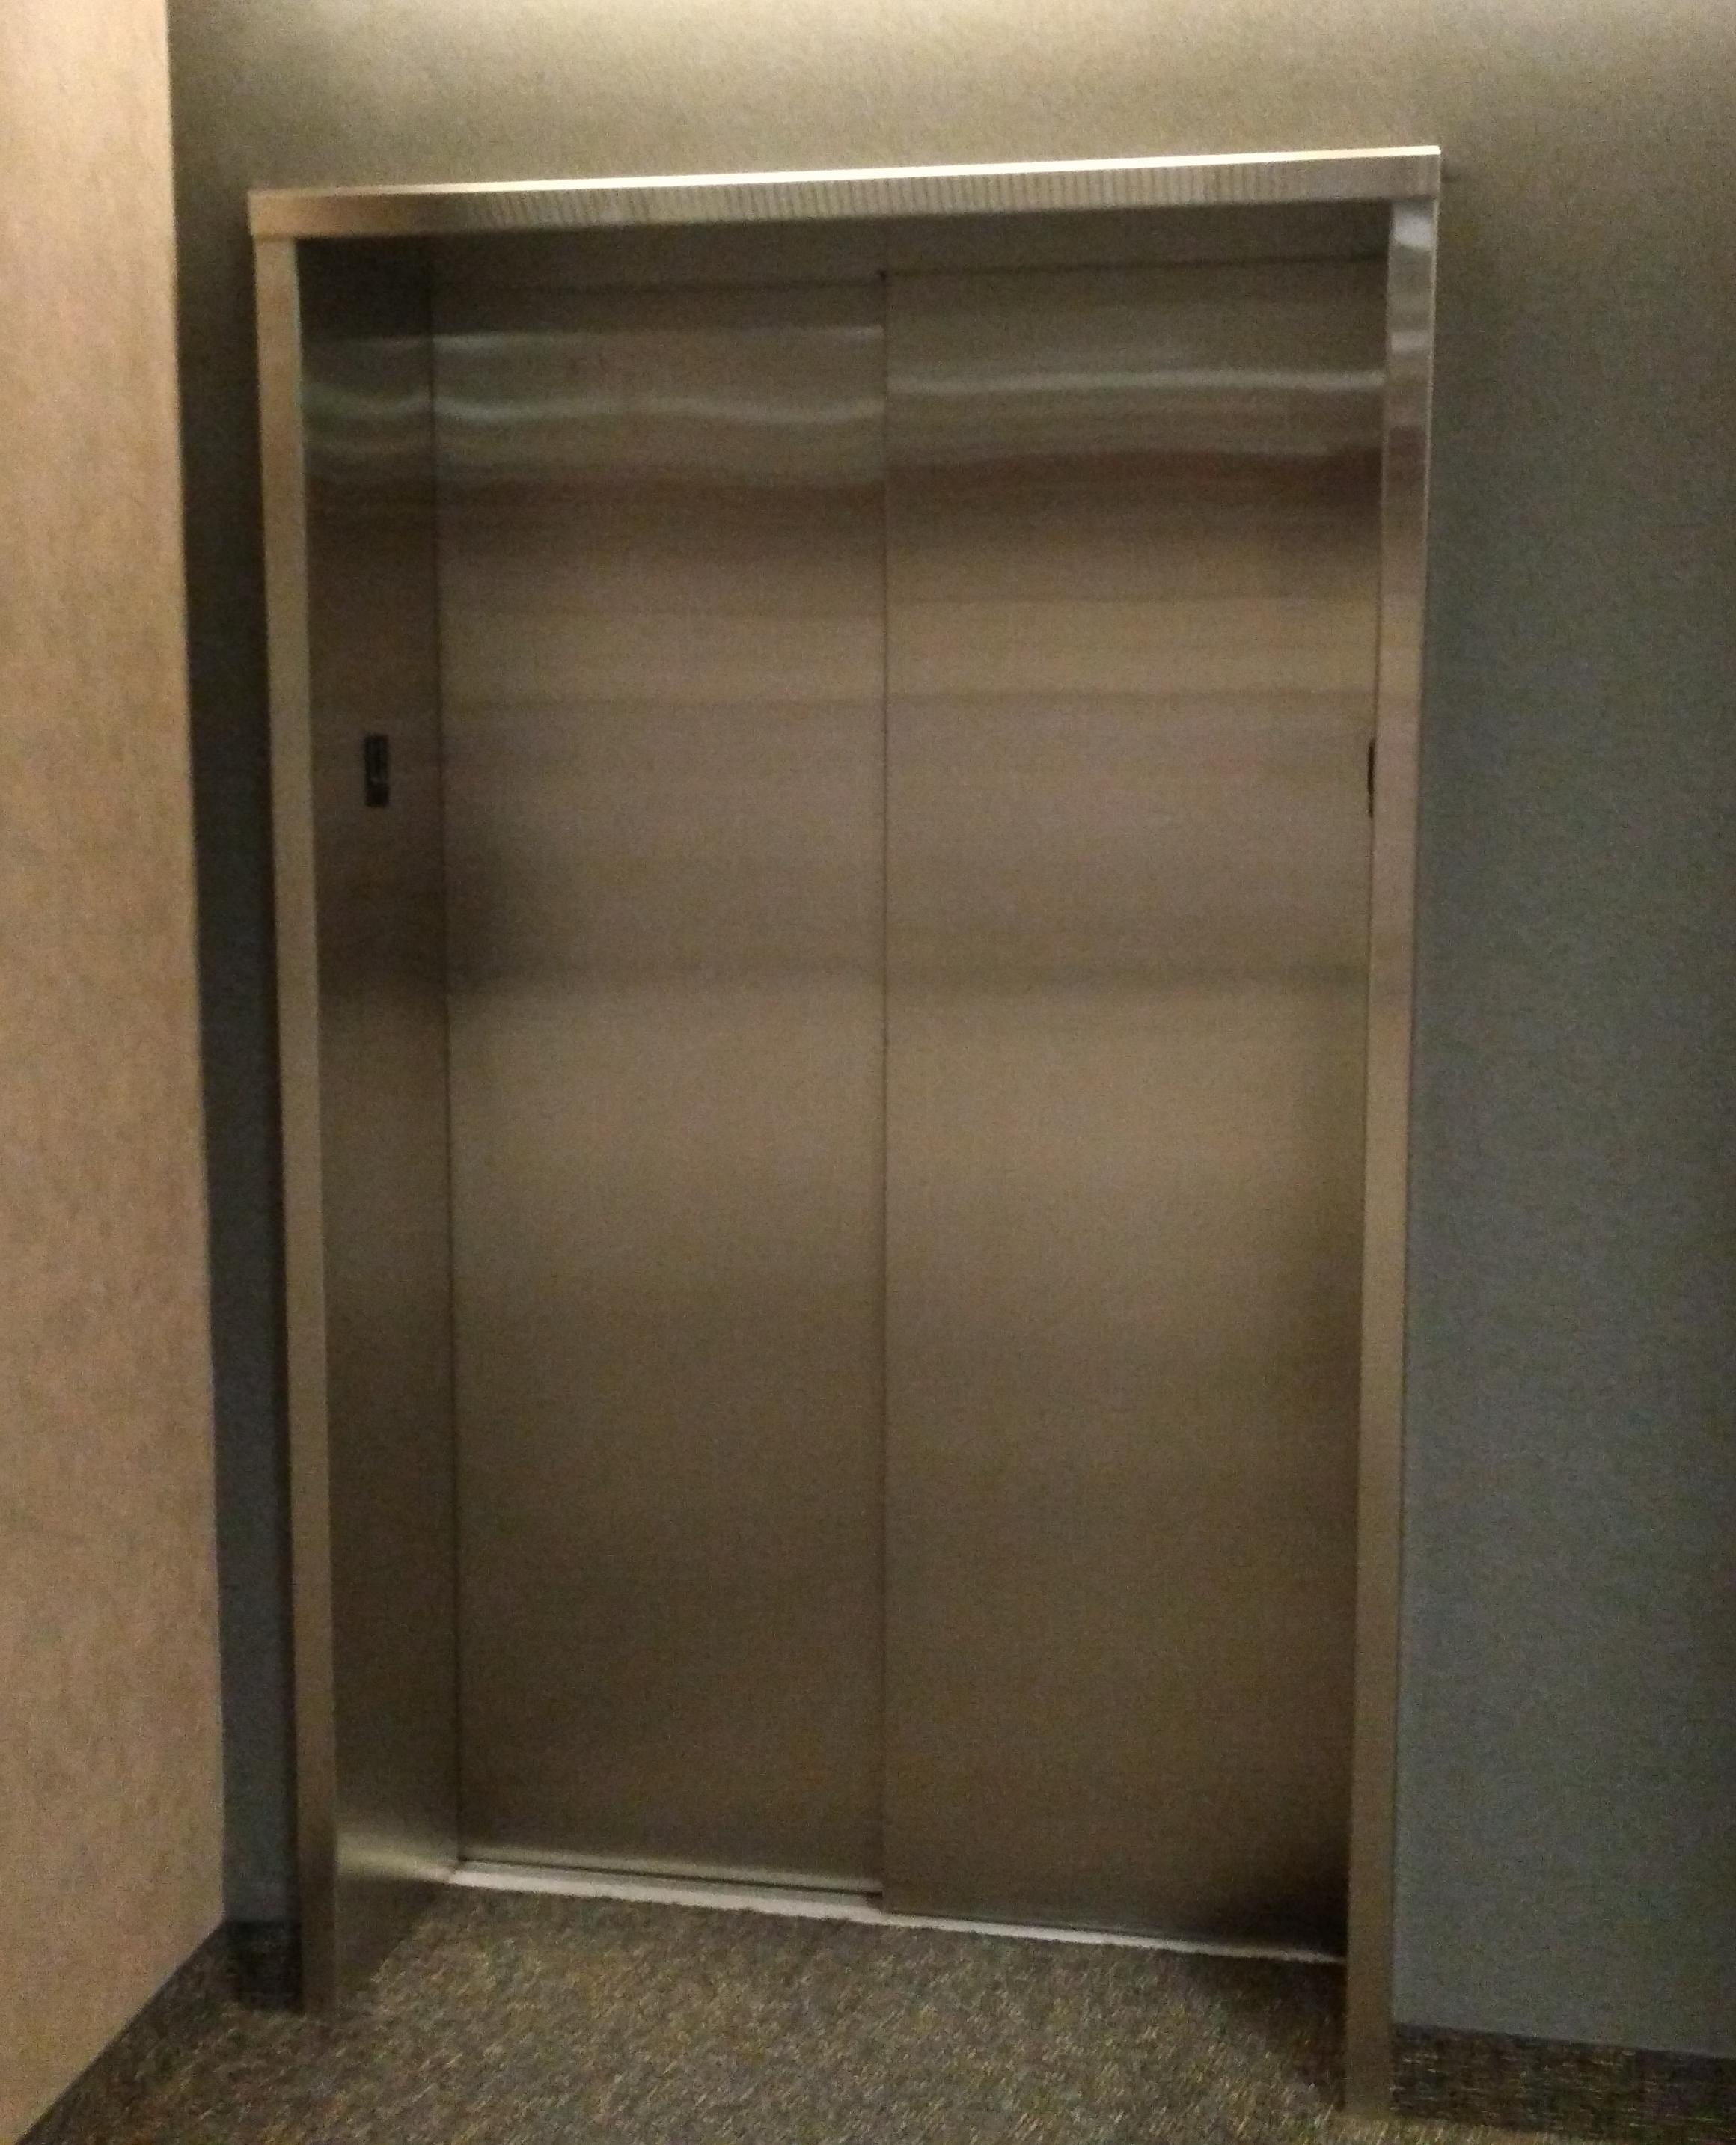door: (252, 154, 1442, 2120)
